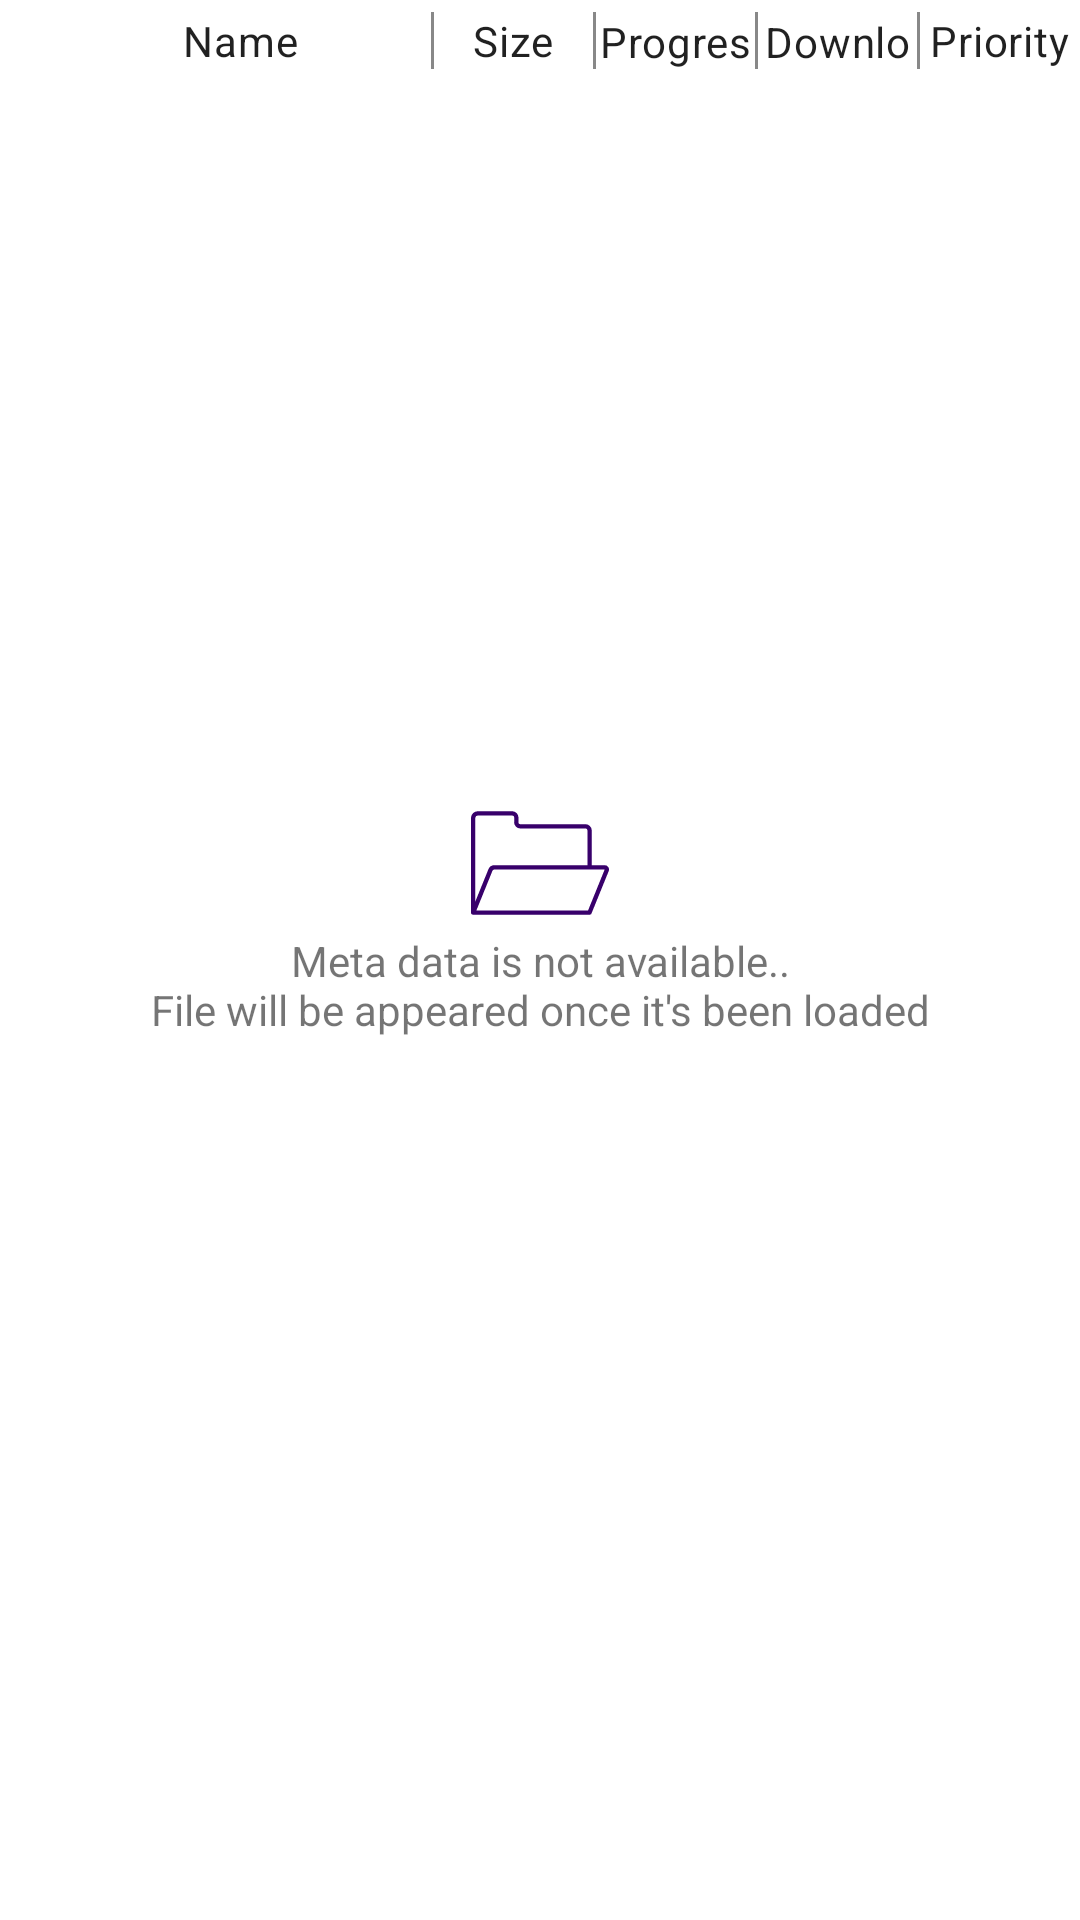

Icon bounding boxes for this 1080w x 1920h phone screenshot, format (left=x1, top=y1, right=x2, bottom=y2):
empty: (left=471, top=811, right=609, bottom=915)
